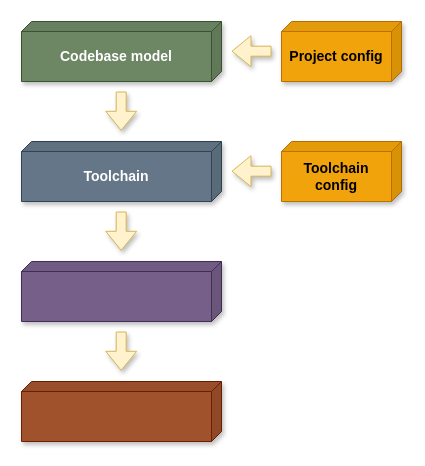
The diagram is 425 pixels wide and 466 high, and some of its shapes have lost their labels. The shapes that lost their labels are listed below. From the top down, each one's centre as x and y in pixels, then its label:
At pixel 122 292: "Build model".
At pixel 122 412: "Output files".
